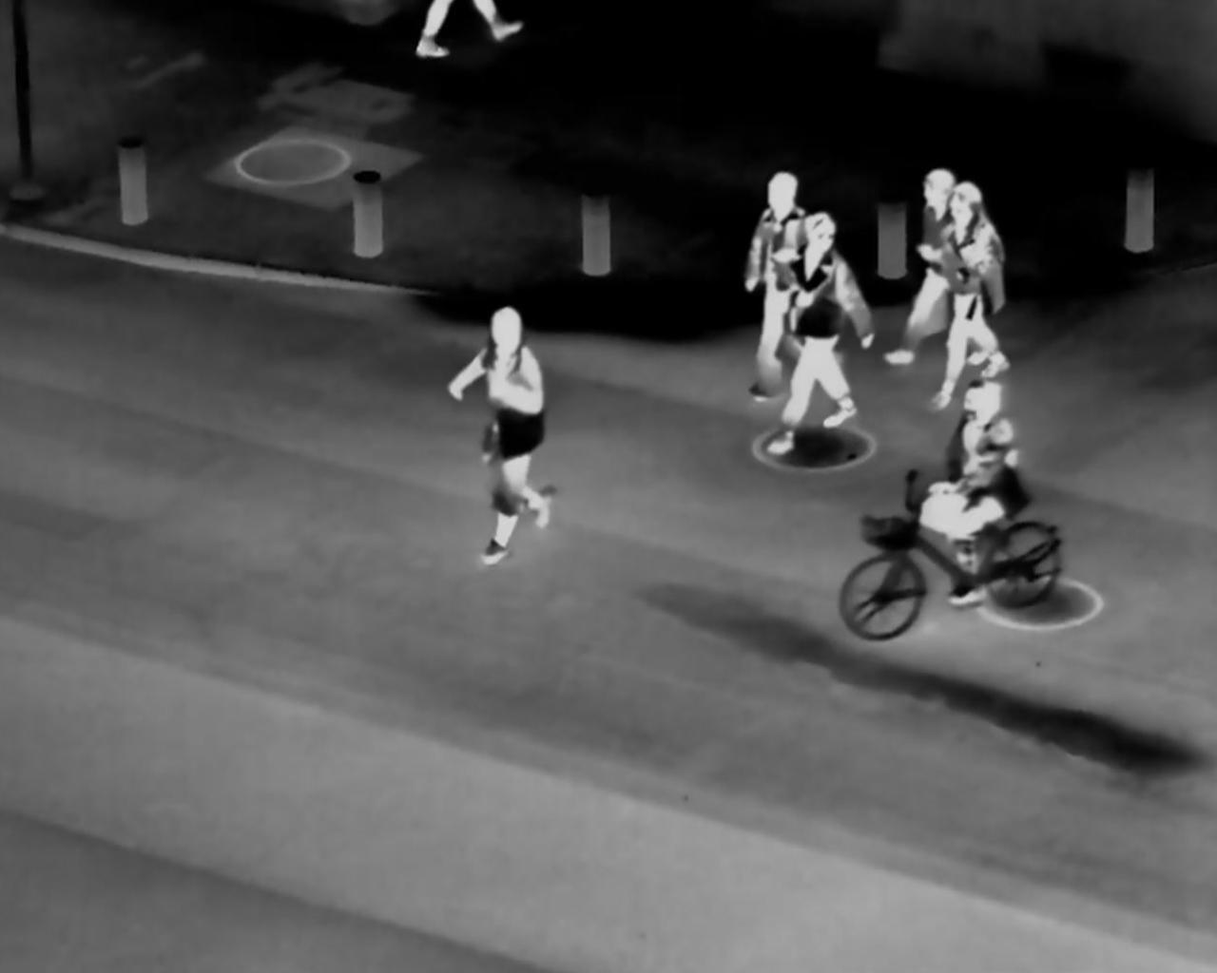person: (448, 297, 570, 553), (923, 381, 1024, 589), (783, 201, 860, 461), (940, 183, 1014, 398), (742, 169, 817, 380), (907, 162, 967, 380)
